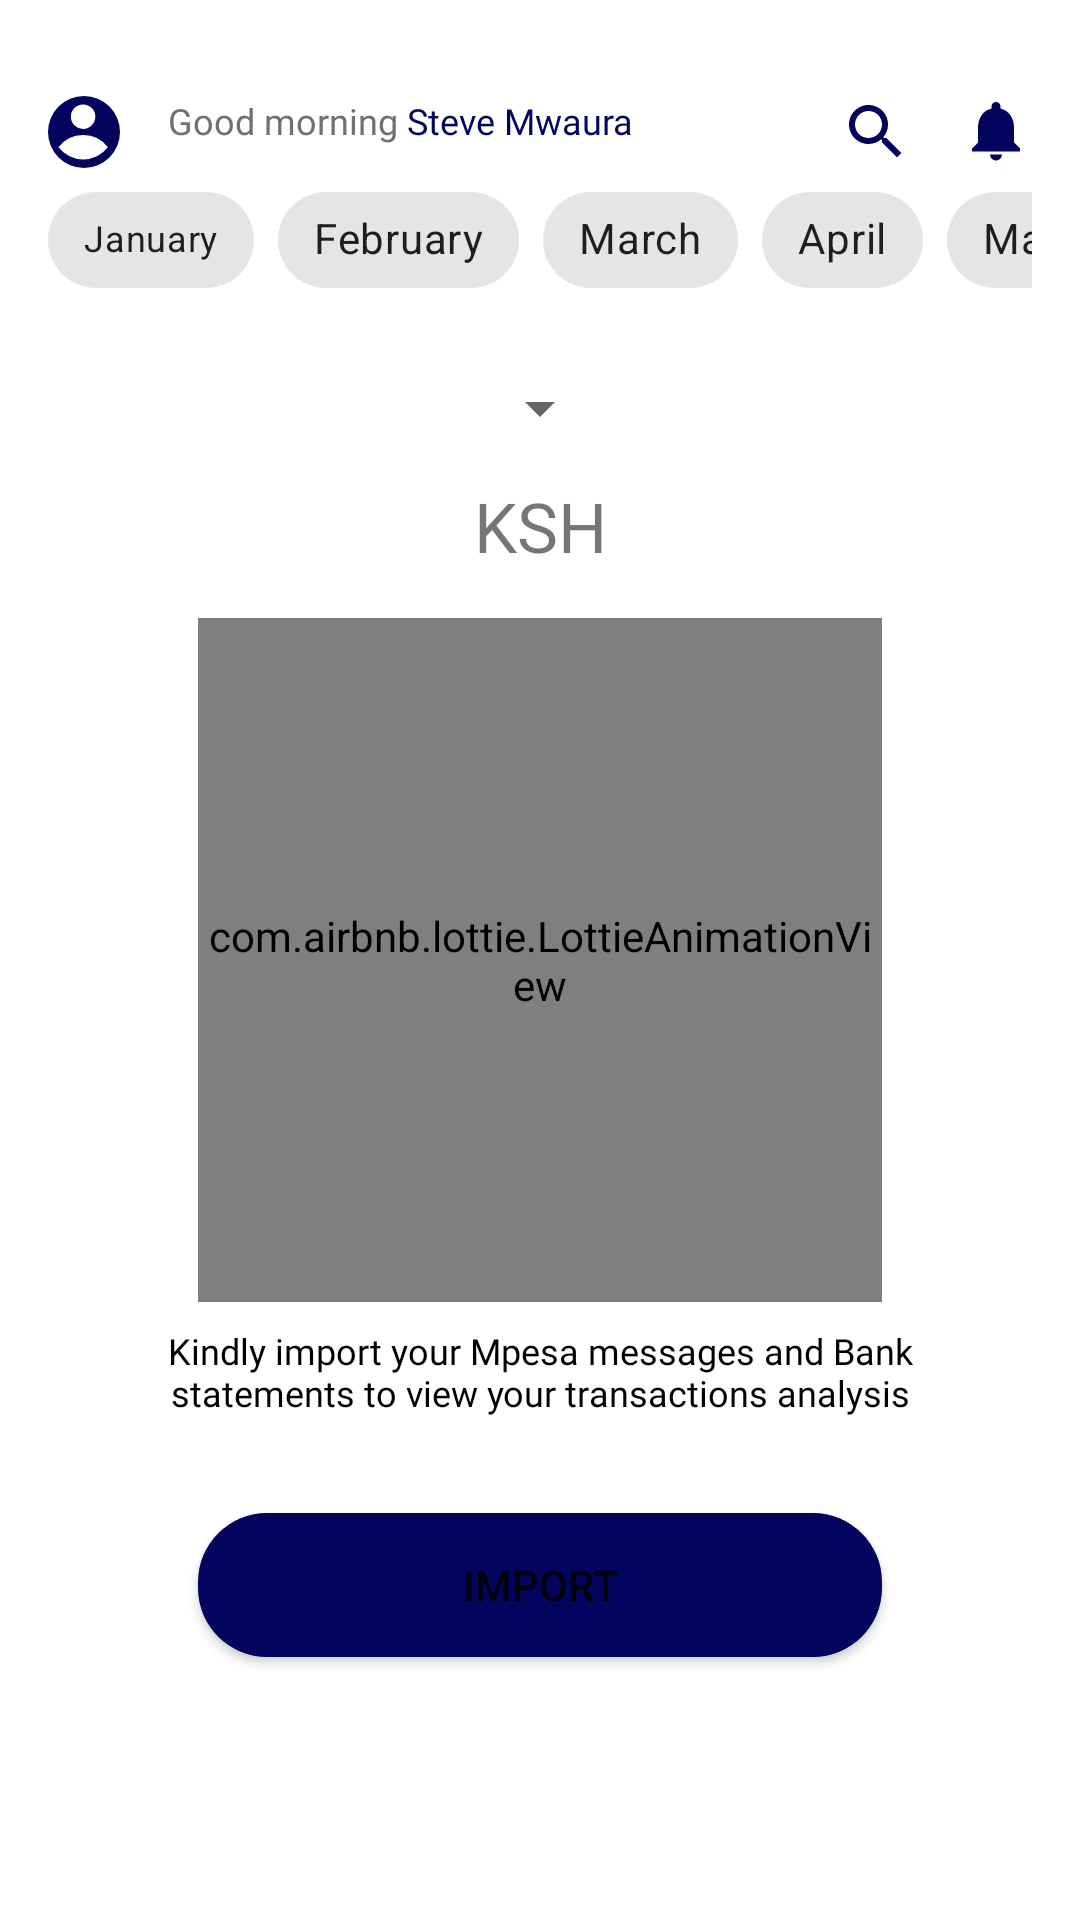

Screen size 1080w x 1920h. Icon name, then its center in pixels as (x=x, y=y):
search: (x=875, y=131)
social notifications: (x=996, y=131)
